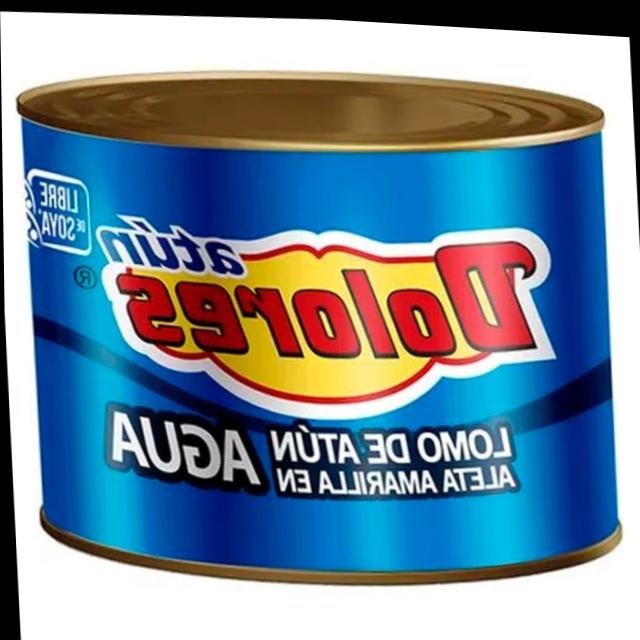Lata: (5, 41, 640, 611)
